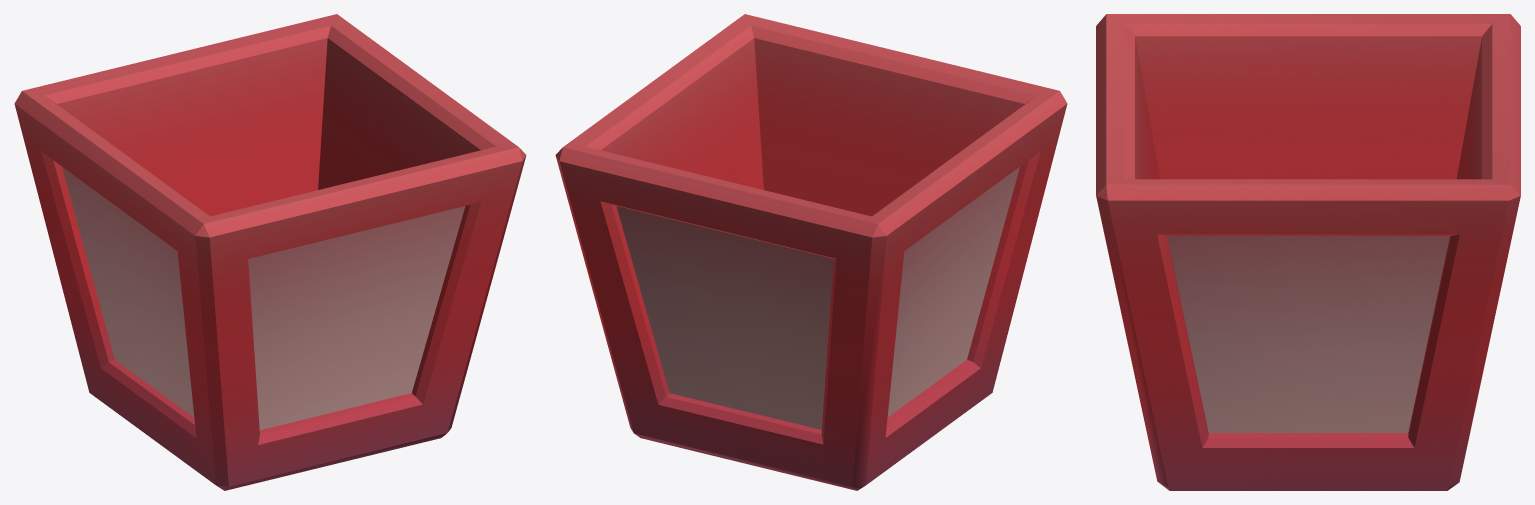
3 views of the same model, side by side, from view 1: azimuth 30°, elevation 25°; view 2: azimuth 150°, elevation 25°; view 3: azimuth 270°, elevation 25° (orthographic). The views are drawn at different scales.
Parts seen in each view (by area): view 1: simplerBox; view 2: simplerBox; view 3: simplerBox.
Part boxes in pixels (<box>): simplerBox: <box>14,14,526,490</box>; simplerBox: <box>555,14,1067,490</box>; simplerBox: <box>1096,14,1520,490</box>.
Size of the model in its own units: 1.62 by 1.4 by 1.62.
